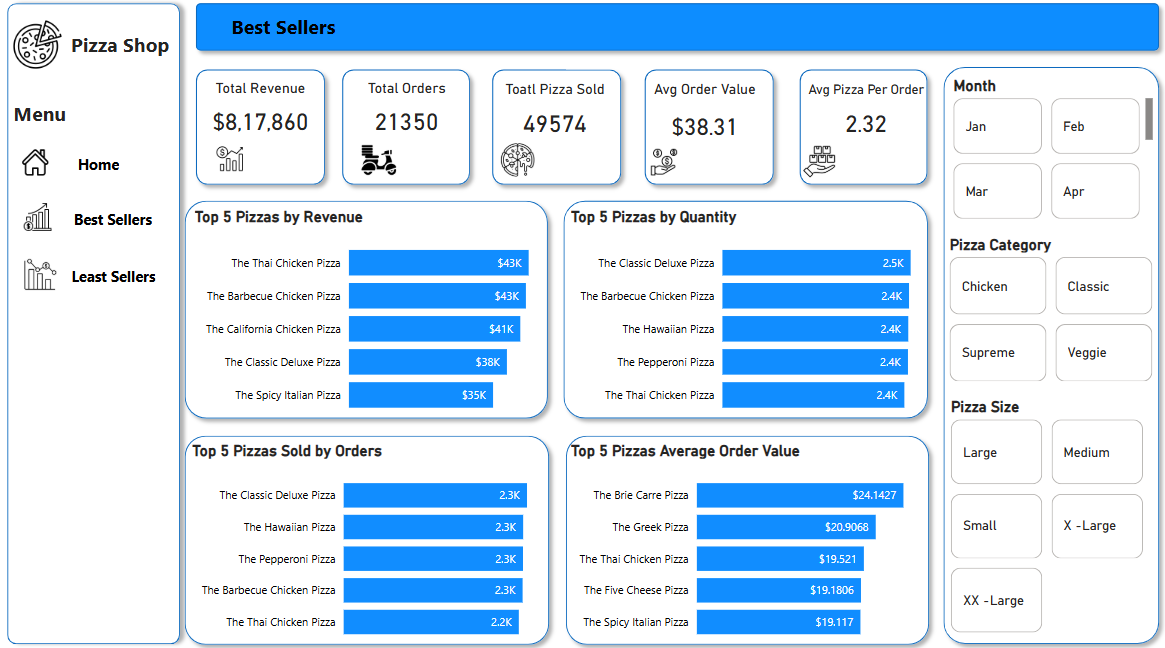

The dashboard page shown, as its layout file describes it:
{"tool":"powerbi","page":{"name":"Best Sellers","canvas":[1280,720],"ordinal":1},"visuals":[{"type":"shape","box":[207.1,0,1072.9,70],"z":0},{"type":"shape","box":[0,0,207.1,720],"z":1000},{"type":"shape","box":[194.9,473.4,417.2,247],"z":2000},{"type":"shape","box":[207.2,72.7,159.2,144.1],"z":3000},{"type":"shape","box":[194.9,216.8,415.8,256.6],"z":4000},{"type":"shape","box":[1025.7,70,254.3,650],"z":5000},{"type":"shape","box":[609.3,216.8,417.2,256.6],"z":6000},{"type":"shape","box":[612,473.4,415.8,247],"z":7000},{"type":"shape","box":[366.4,72.7,157.8,144.1],"z":8000},{"type":"shape","box":[531,72.7,159.2,144.1],"z":9000},{"type":"shape","box":[698.5,72.7,159.2,144.1],"z":10000},{"type":"shape","box":[868.6,72.7,157.8,144.1],"z":11000},{"type":"card","title":"Total Revenue","fields":{"Values":["pizza_sales.Total Revenue"]},"box":[207.2,93.3,159.2,76.8],"z":12000},{"type":"textbox","box":[142.9,15.7,338.6,50],"z":13000},{"type":"image","box":[219.6,160.5,67.2,38.4],"z":14000},{"type":"card","title":"Total Orders","fields":{"Values":["pizza_sales.Total Orders"]},"box":[377.4,93.3,137.2,76.8],"z":15000},{"type":"card","title":"Toatl Pizza Sold","fields":{"Values":["pizza_sales.Total Pizzas Sold"]},"box":[509.1,94.7,199,79.6],"z":16000},{"type":"card","title":"Avg Order Value","fields":{"Values":["pizza_sales.Average Order Value"]},"box":[698.5,94.7,149.6,85.1],"z":17000},{"type":"card","title":"Avg Pizza Per Order","fields":{"Values":["pizza_sales.Avg Pizzas Per Order"]},"box":[874.1,94.7,152.3,79.6],"z":18000},{"type":"image","box":[874.1,160.5,49.4,45.3],"z":19000},{"type":"image","box":[708.1,160.5,41.2,45.3],"z":20000},{"type":"image","box":[388.3,152.3,54.9,57.6],"z":21000},{"type":"image","box":[544.8,157.8,46.7,46.7],"z":22000},{"type":"image","box":[11.4,15.7,62.9,78.6],"z":23000},{"type":"image","box":[20,160,38.6,45.7],"z":24000},{"type":"image","box":[15.7,222.9,54.3,40],"z":25000},{"type":"image","box":[20,278.6,50,55.7],"z":26000},{"type":"advancedSlicerVisual","title":"Pizza Category","fields":{"Values":["pizza_sales.pizza_category"]},"box":[1037.1,262.9,232.9,165.7],"z":27000},{"type":"advancedSlicerVisual","title":"Pizza Size","fields":{"Values":["pizza_sales.Pizza Size Full"]},"box":[1038.6,441.4,220,264.3],"z":28000},{"type":"actionButton","title":"HOME","box":[74.3,217.1,101.4,55.7],"z":29000},{"type":"textbox","box":[74.3,34.3,135.7,42.9],"z":30000},{"type":"textbox","box":[11.4,110,94.3,42.9],"z":31000},{"type":"actionButton","box":[75.7,287.1,100,40],"z":32000},{"type":"actionButton","box":[58.6,164.3,100,40],"z":33000},{"type":"barChart","title":"Top 5 Pizzas by Revenue","fields":{"Category":["pizza_sales.pizza_name"],"Y":["pizza_sales.Total Revenue"]},"box":[210,232.9,430,240],"z":34000},{"type":"barChart","title":"Top 5 Pizzas by Quantity","fields":{"Category":["pizza_sales.pizza_name"],"Y":["pizza_sales.Total Pizzas Sold"]},"box":[621.4,232.9,405.7,240],"z":35000},{"type":"barChart","title":"Top 5 Pizzas Sold by Orders","fields":{"Category":["pizza_sales.pizza_name"],"Y":["pizza_sales.Total Orders"]},"box":[207.1,488.6,401.4,231.4],"z":36000},{"type":"barChart","title":"Top 5 Pizzas Average Order Value","fields":{"Category":["pizza_sales.pizza_name"],"Y":["pizza_sales.Average Order Value"]},"box":[621.4,488.6,430,231.4],"z":37000},{"type":"advancedSlicerVisual","title":"Month","fields":{"Values":["pizza_sales.Month_Short"]},"box":[1040.7,89,228.7,162.9],"z":38000}]}

Visuals, with their boxes on the page's 1280x720 design canvas (x1, y1, x2, y2). These are canvas units, not pixel positions in the 1165x648 screenshot, which may show the page scaled, cropped or inside an application window:
shape: bbox=[207, 0, 1280, 70]
shape: bbox=[0, 0, 207, 720]
shape: bbox=[195, 473, 612, 720]
shape: bbox=[207, 73, 366, 217]
shape: bbox=[195, 217, 611, 473]
shape: bbox=[1026, 70, 1280, 720]
shape: bbox=[609, 217, 1026, 473]
shape: bbox=[612, 473, 1028, 720]
shape: bbox=[366, 73, 524, 217]
shape: bbox=[531, 73, 690, 217]
shape: bbox=[698, 73, 858, 217]
shape: bbox=[869, 73, 1026, 217]
"Total Revenue" card: bbox=[207, 93, 366, 170]
textbox: bbox=[143, 16, 482, 66]
image: bbox=[220, 160, 287, 199]
"Total Orders" card: bbox=[377, 93, 515, 170]
"Toatl Pizza Sold" card: bbox=[509, 95, 708, 174]
"Avg Order Value" card: bbox=[698, 95, 848, 180]
"Avg Pizza Per Order" card: bbox=[874, 95, 1026, 174]
image: bbox=[874, 160, 924, 206]
image: bbox=[708, 160, 749, 206]
image: bbox=[388, 152, 443, 210]
image: bbox=[545, 158, 592, 204]
image: bbox=[11, 16, 74, 94]
image: bbox=[20, 160, 59, 206]
image: bbox=[16, 223, 70, 263]
image: bbox=[20, 279, 70, 334]
"Pizza Category" advancedSlicerVisual: bbox=[1037, 263, 1270, 429]
"Pizza Size" advancedSlicerVisual: bbox=[1039, 441, 1259, 706]
"HOME" actionButton: bbox=[74, 217, 176, 273]
textbox: bbox=[74, 34, 210, 77]
textbox: bbox=[11, 110, 106, 153]
actionButton: bbox=[76, 287, 176, 327]
actionButton: bbox=[59, 164, 159, 204]
"Top 5 Pizzas by Revenue" barChart: bbox=[210, 233, 640, 473]
"Top 5 Pizzas by Quantity" barChart: bbox=[621, 233, 1027, 473]
"Top 5 Pizzas Sold by Orders" barChart: bbox=[207, 489, 608, 720]
"Top 5 Pizzas Average Order Value" barChart: bbox=[621, 489, 1051, 720]
"Month" advancedSlicerVisual: bbox=[1041, 89, 1269, 252]
